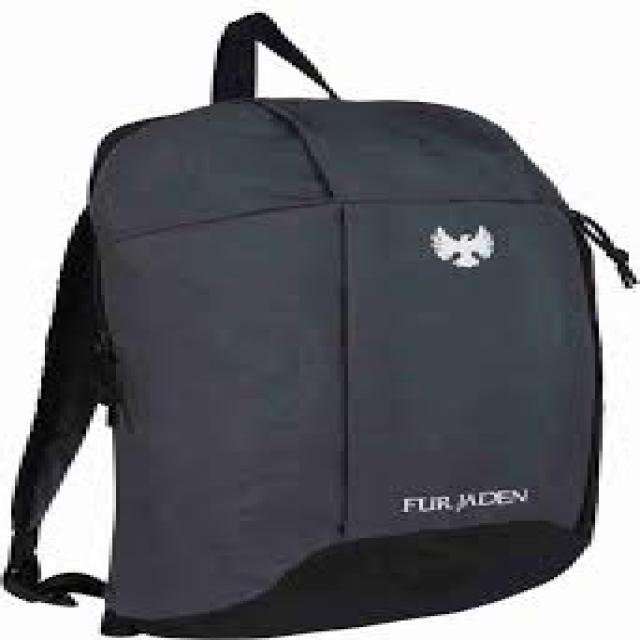backpack: (1, 12, 637, 639)
